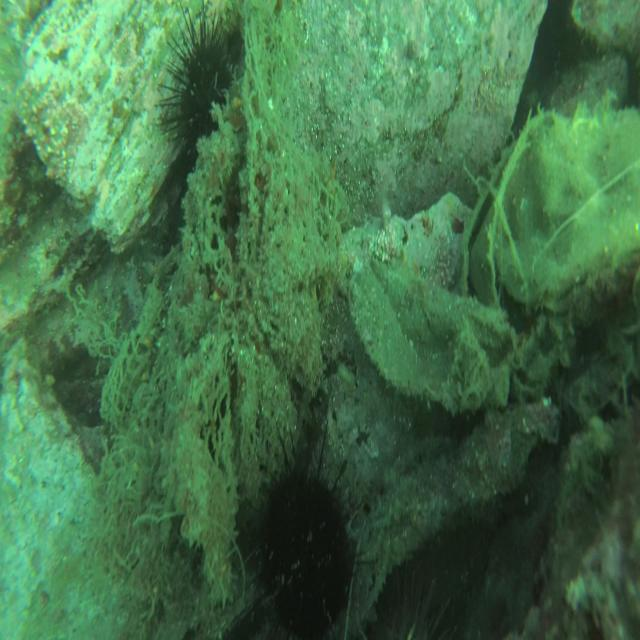echinus: (252, 438, 354, 607), (166, 19, 244, 161)
